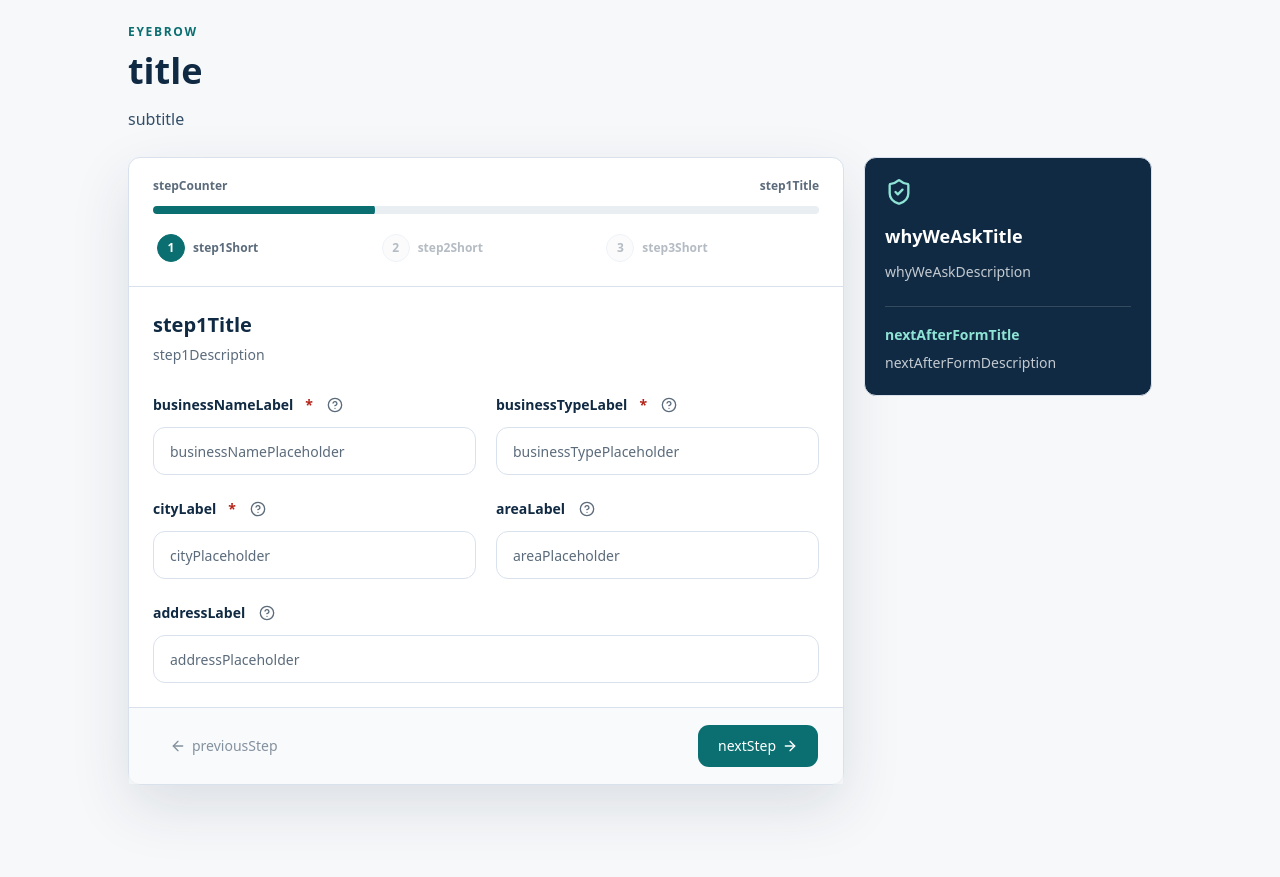
Test case: IntakeForm › validates URLs
Fill required
Type "Test" into the field with placeholder "businessNamePlaceholder".
click(314, 451); type("Test")  # box [153,427,476,475]
Type "Cafe" into the field with placeholder "businessTypePlaceholder".
click(658, 451); type("Cafe")  # box [496,427,819,475]
Type "Cairo" into the field with placeholder "cityPlaceholder".
click(314, 555); type("Cairo")  # box [153,531,476,579]
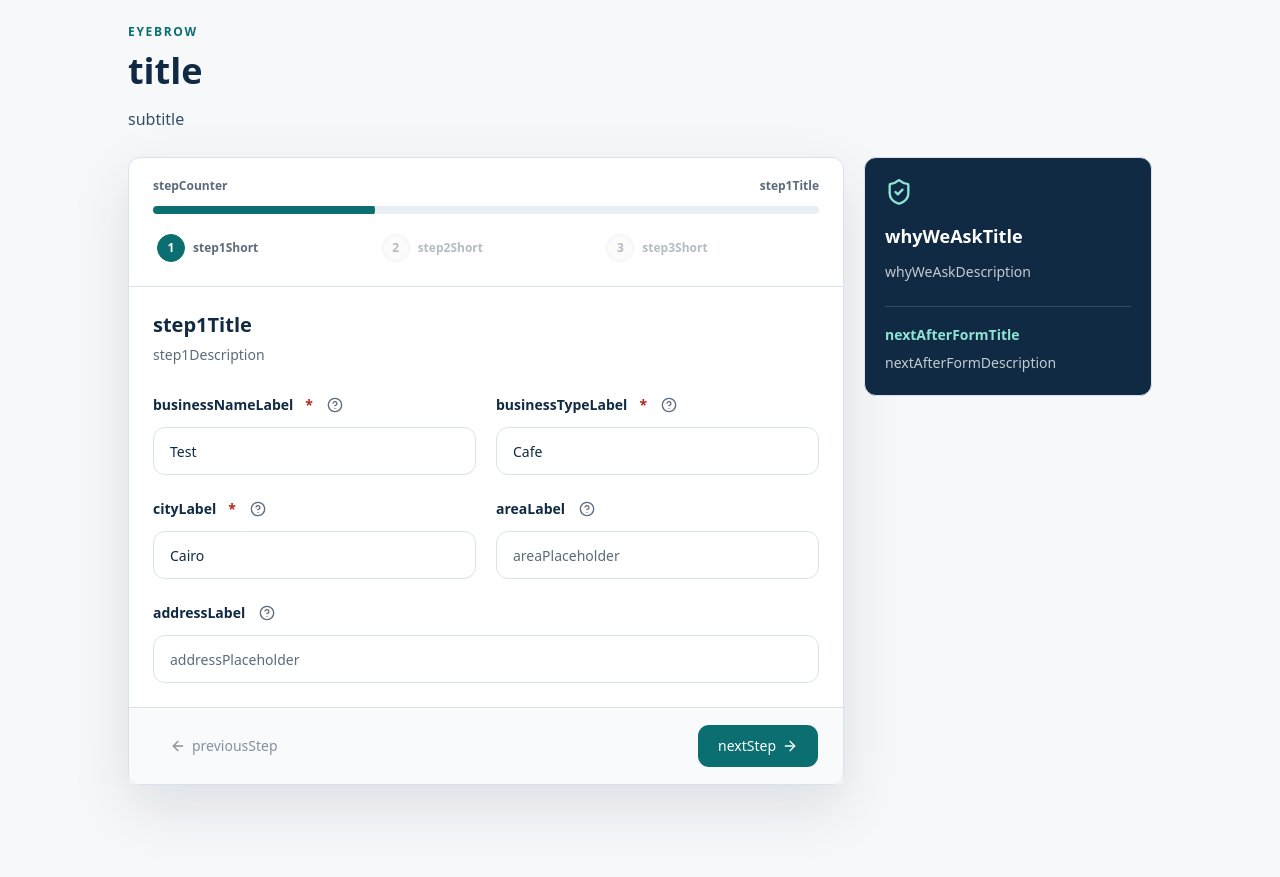
Click the button "nextStep".
click(758, 746)  # box [697,724,819,768]
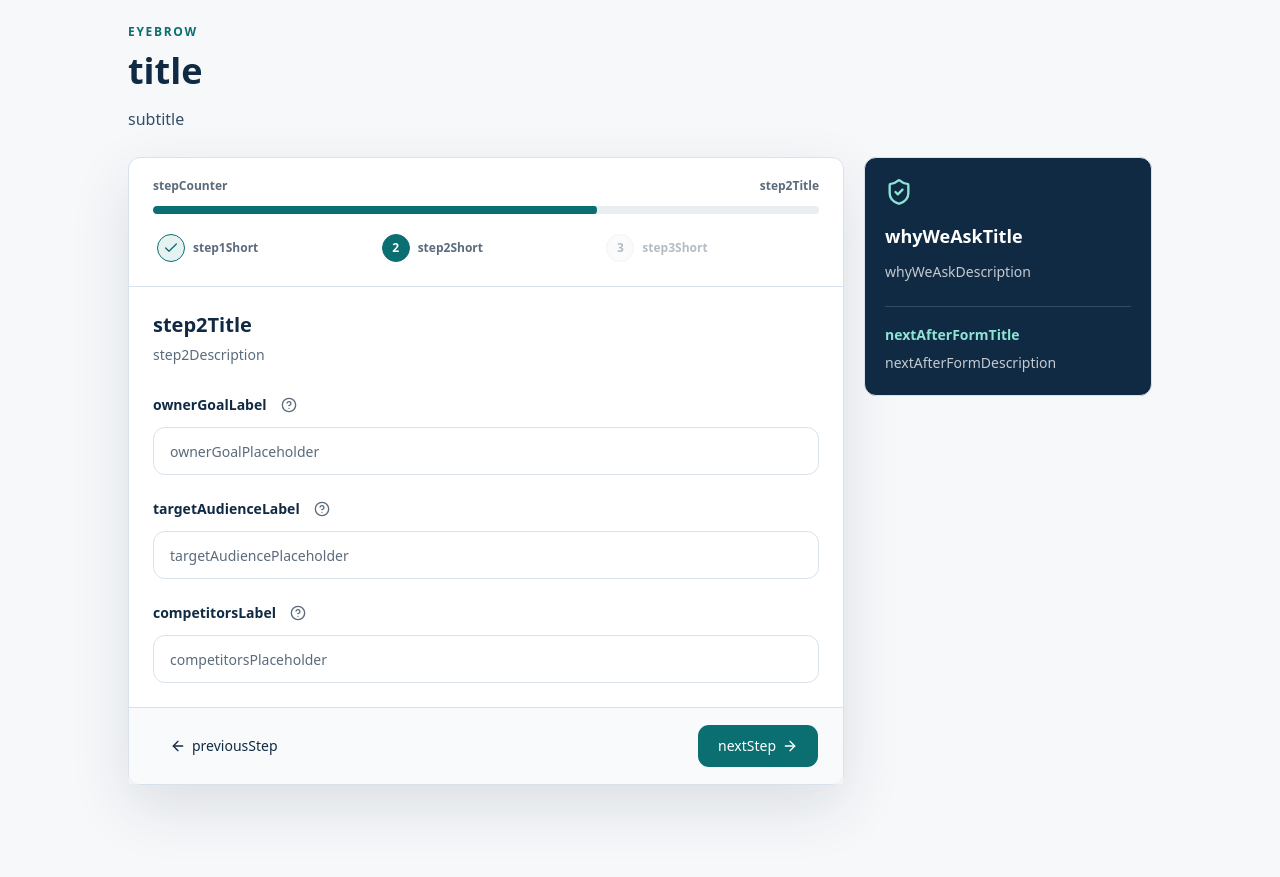
Click the button "nextStep".
click(758, 746)  # box [697,724,819,768]
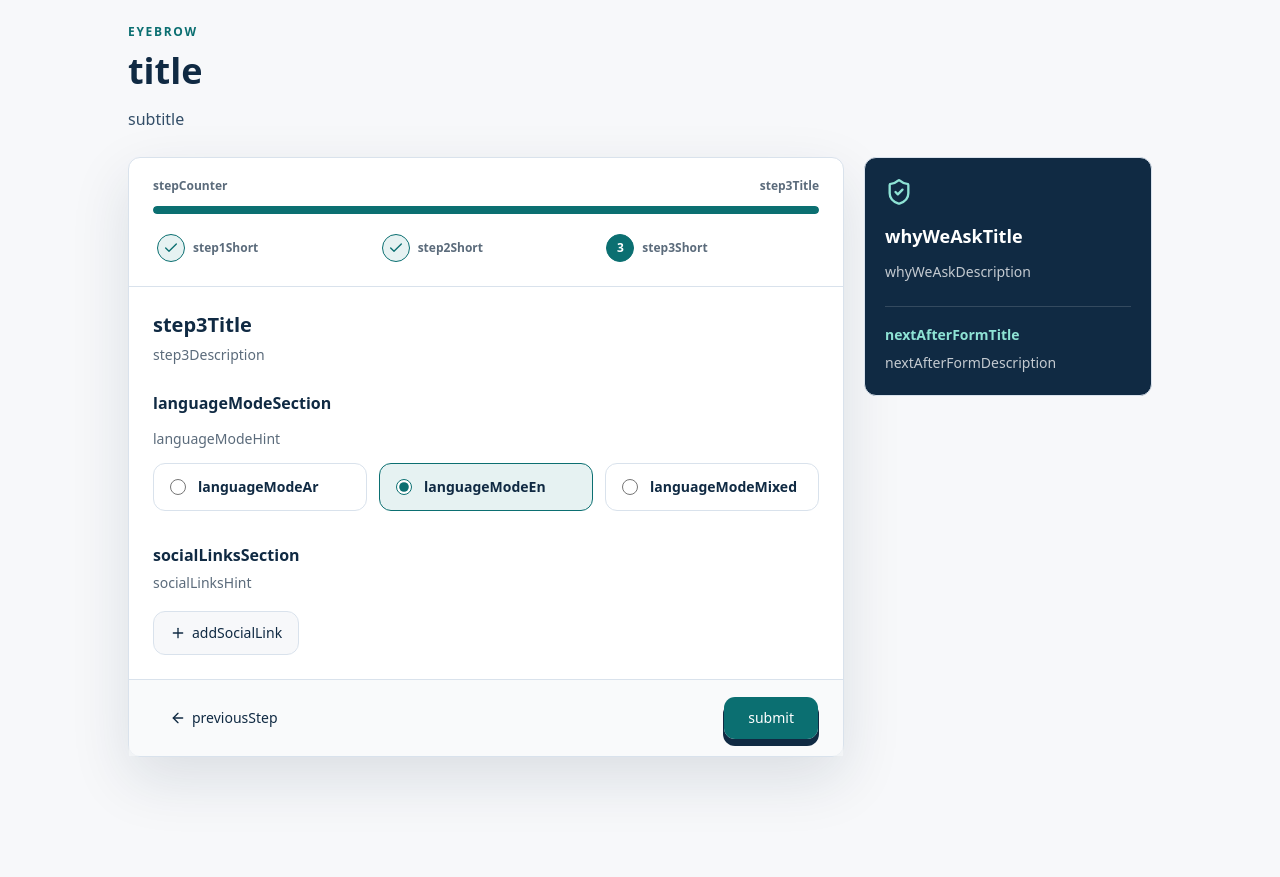
Add invalid social link
Click the button "addSocialLink".
click(226, 633)  # box [153,611,299,655]
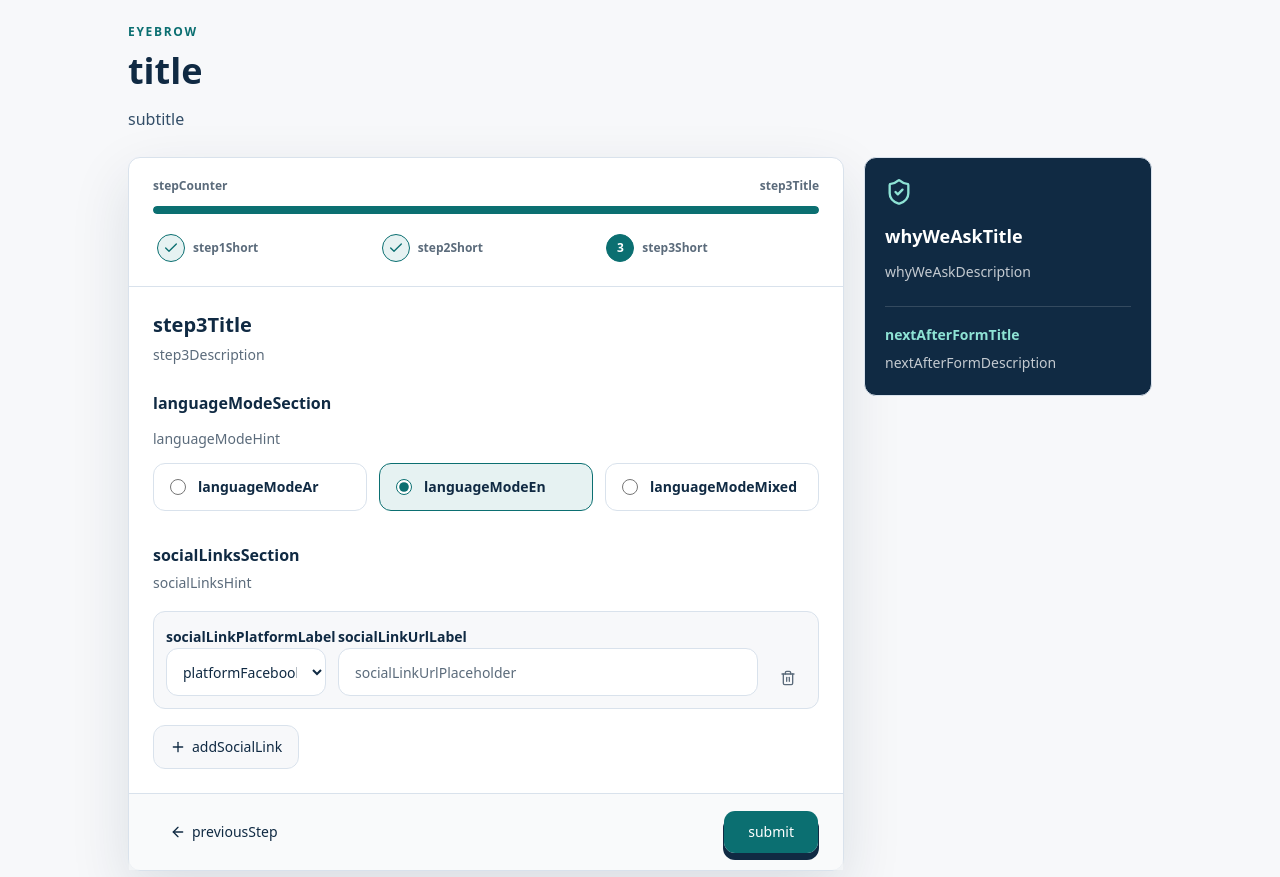
Type "invalid-url" into the field with placeholder "socialLinkUrlPlaceholder".
click(548, 672); type("invalid-url")  # box [338,648,758,696]
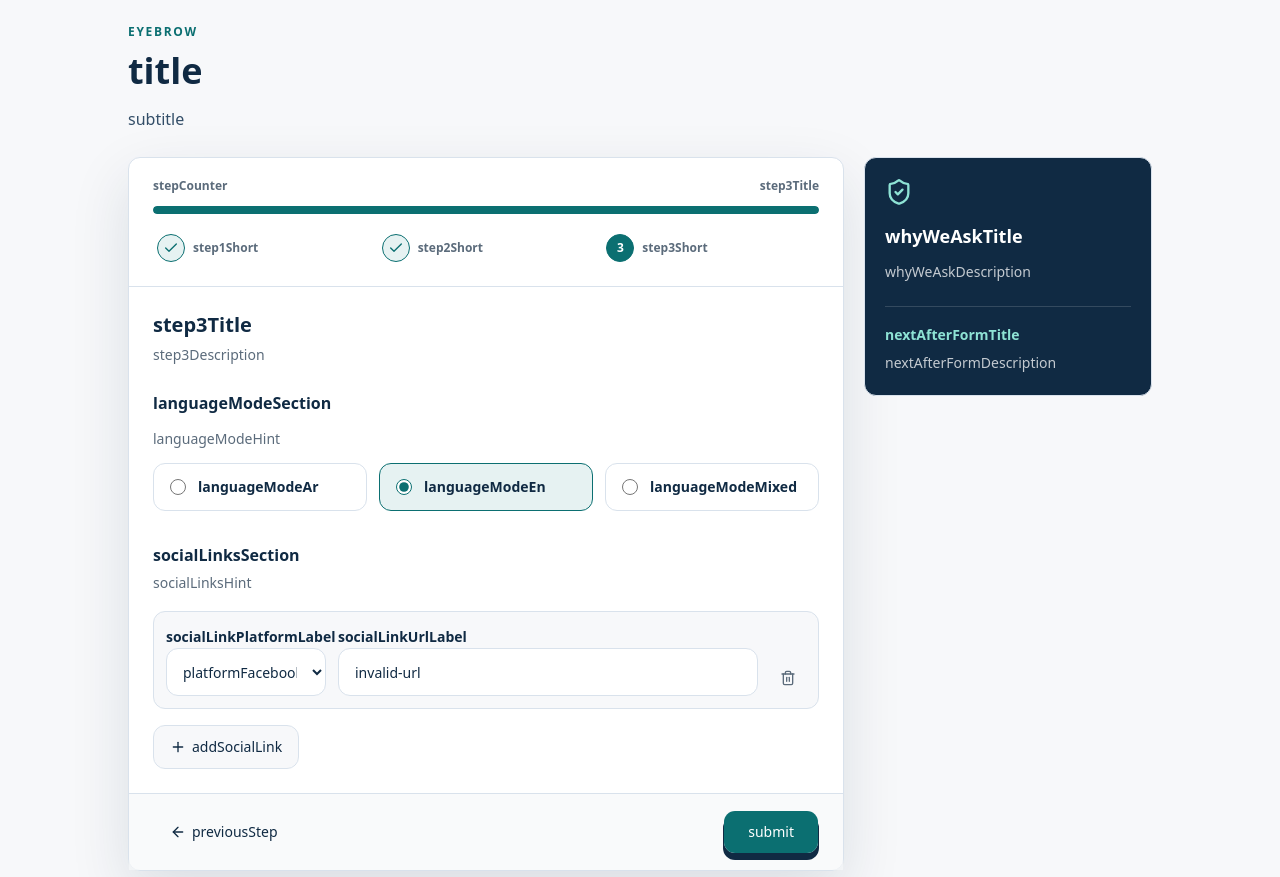
Click the button "submit".
click(771, 832)  # box [723,810,819,854]
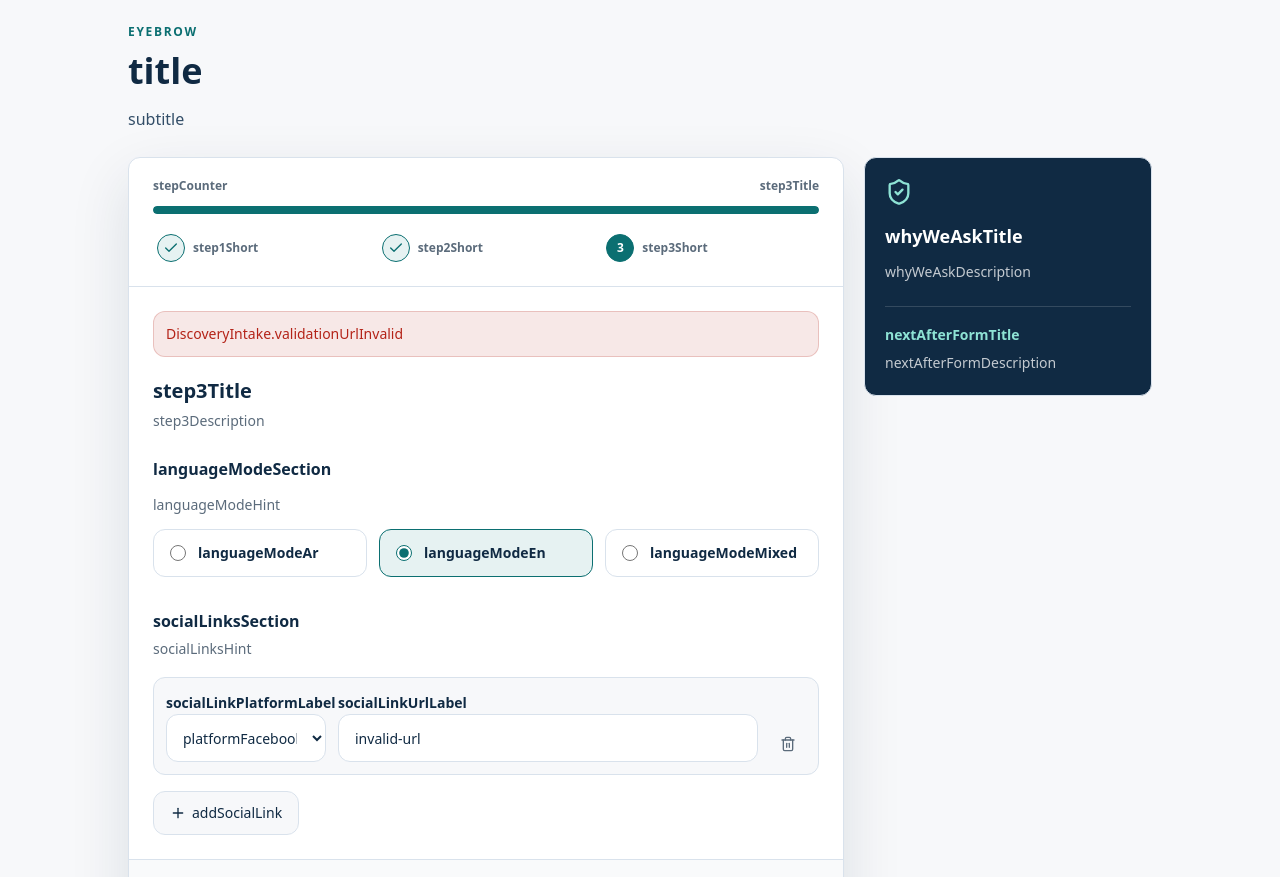
Check: the text "DiscoveryIntake.validationUrlInvalid" is shown, box [153,311,819,357]
